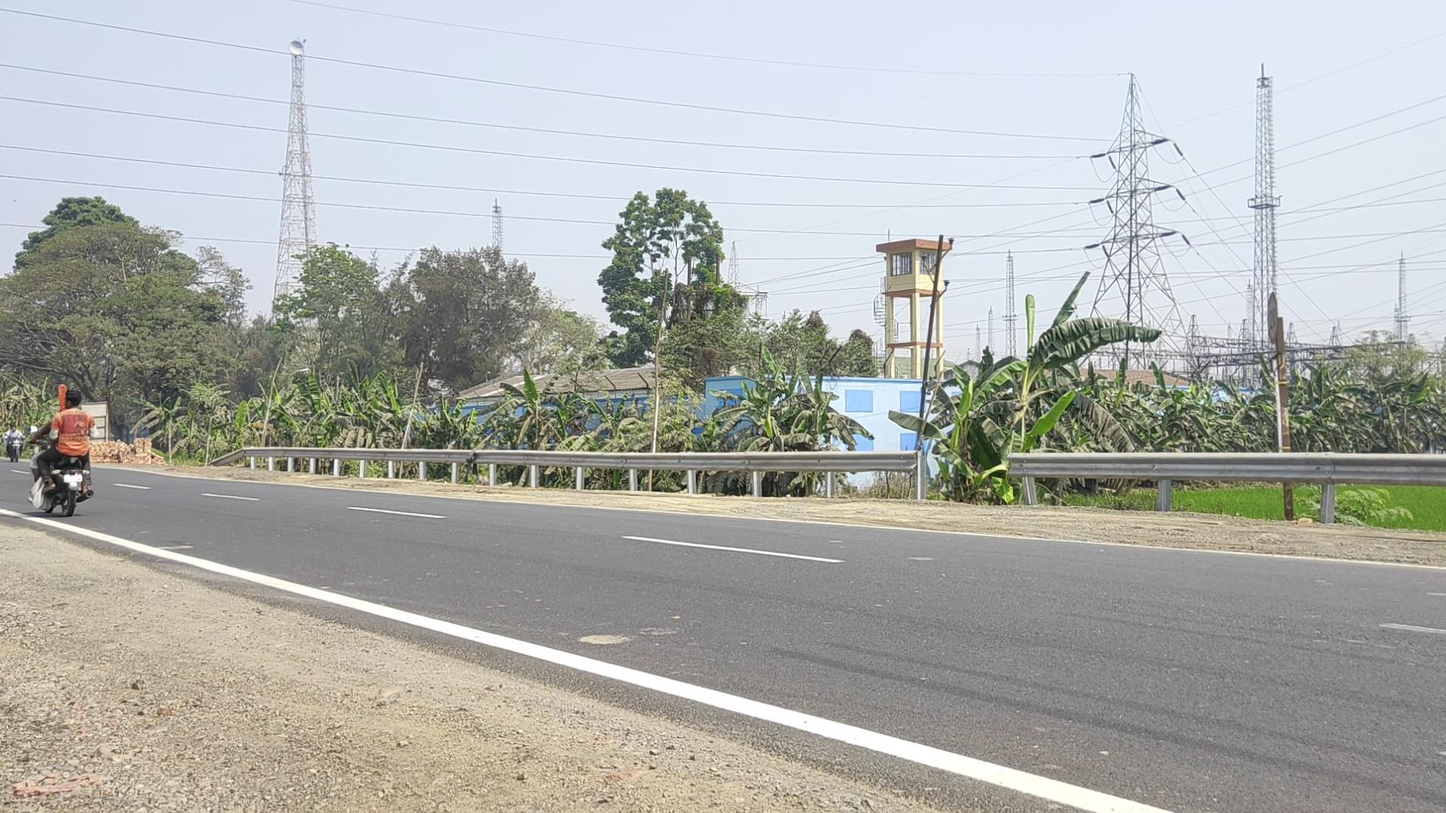bike: (26, 389, 98, 518), (3, 424, 26, 463)
